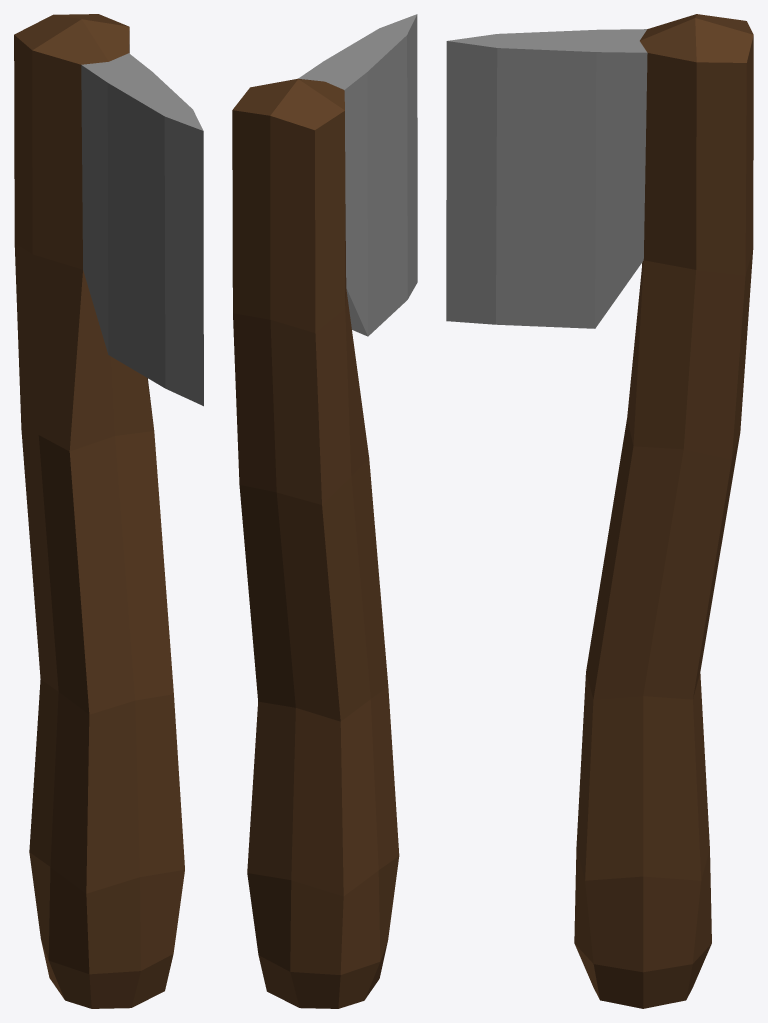
Rendered from axe 1.fbx.
3 views of the same model, side by side, from view 1: azimuth 30°, elevation 25°; view 2: azimuth 150°, elevation 25°; view 3: azimuth 270°, elevation 25° (orthographic). The views are drawn at different scales.
Visible parts, largest first — view 1: Cube; view 2: Cube; view 3: Cube.
Part boxes in pixels (x1,y1,x2,y2): Cube: (14,14,203,1008); Cube: (232,14,417,1008); Cube: (446,14,753,1008).
Bounding box in the file's own units: 7.01 × 55.45 × 15.65.
